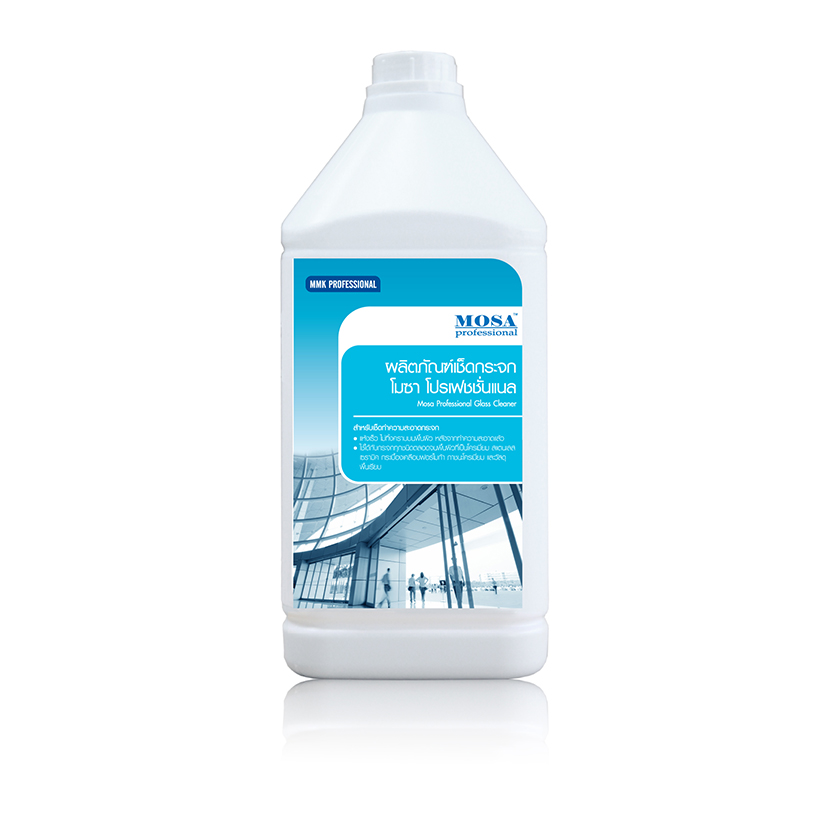Cleaning_solution: (276, 44, 561, 687)
